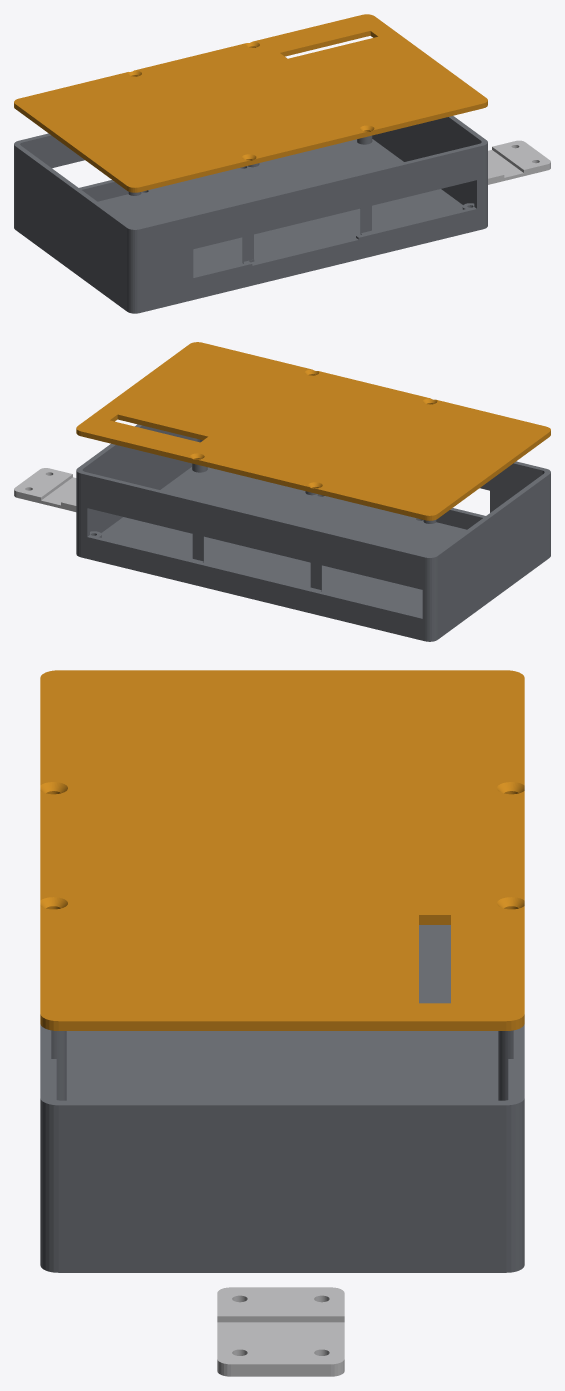
Rendered from AP_CAJA_RACK.glb.
The picture shows the model from 3 angles, top to bottom: view 1: azimuth 30°, elevation 25°; view 2: azimuth 150°, elevation 25°; view 3: azimuth 270°, elevation 25°; orthographic projection. The views are drawn at different scales.
Parts seen in each view (by area): view 1: caja, tapa, union; view 2: caja, tapa, union; view 3: tapa, caja, union.
Boxes of the visible parts, left/top/right/bottom form: caja: left=14, top=116, right=487, bottom=313; tapa: left=14, top=14, right=487, bottom=192; union: left=488, top=140, right=550, bottom=184; caja: left=76, top=424, right=550, bottom=641; tapa: left=76, top=342, right=550, bottom=520; union: left=14, top=468, right=76, bottom=511; tapa: left=40, top=670, right=524, bottom=1030; caja: left=40, top=925, right=524, bottom=1272; union: left=217, top=1287, right=344, bottom=1376.
Bounding box in the file's own units: 0.2364 × 0.061 × 0.1064.
